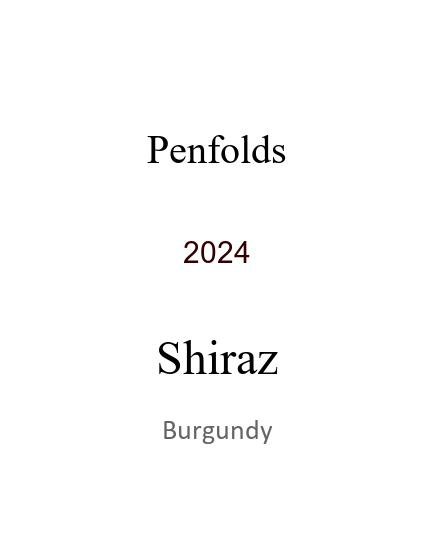brand: (147, 127, 287, 155)
region: (162, 418, 273, 442)
variety: (156, 331, 278, 365)
vintage: (183, 235, 251, 257)
